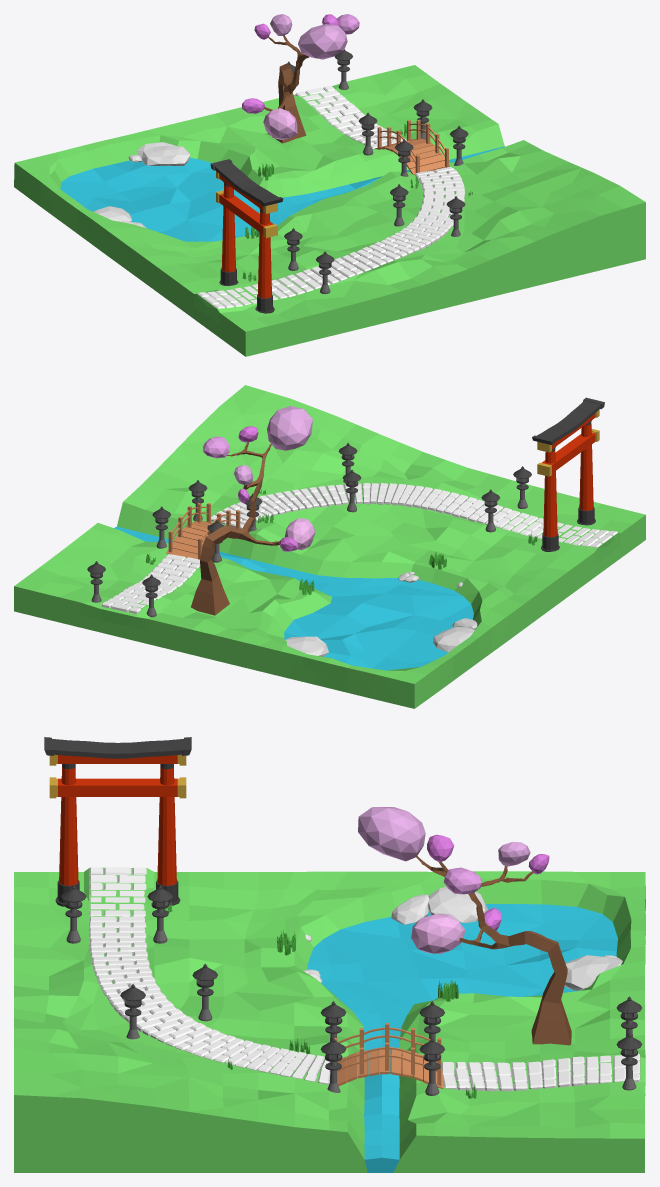
File: garden.fbx
The picture shows the model from 3 angles, top to bottom: view 1: azimuth 30°, elevation 25°; view 2: azimuth 150°, elevation 25°; view 3: azimuth 270°, elevation 25°; orthographic projection. The views are drawn at different scales.
Visible parts, largest first — view 1: Cube.004_Cube.002, Cube.006, Icosphere.006, Cube.022, Icosphere.008, Cube.019, Circle, Circle.001, Circle.004, Circle.003; view 2: Cube.004_Cube.002, Cube.006, Icosphere.006, Cube.022, Cube.019, Circle, Circle.006, Circle.001, Circle.004, Icosphere.010, Icosphere.008, Circle.003; view 3: Cube.004_Cube.002, Cube.006, Icosphere.006, Cube.022, Cube.019, Circle, Circle.001, Icosphere.010, Circle.004, Circle.006, Circle.003, Icosphere.008 (+1 smaller).
Part boxes in pixels (x1,y1,x2,y2): Cube.004_Cube.002: [14, 65, 645, 356]; Cube.006: [198, 85, 464, 308]; Icosphere.006: [242, 14, 359, 143]; Cube.022: [210, 159, 283, 313]; Icosphere.008: [136, 142, 190, 165]; Cube.019: [375, 138, 449, 174]; Circle: [284, 228, 334, 294]; Circle.001: [390, 184, 465, 236]; Circle.004: [359, 99, 432, 155]; Circle.003: [395, 126, 468, 176]; Cube.004_Cube.002: [14, 385, 645, 708]; Cube.006: [102, 483, 617, 613]; Icosphere.006: [191, 406, 315, 615]; Cube.022: [532, 397, 604, 551]; Cube.019: [166, 521, 211, 558]; Circle: [481, 466, 531, 532]; Circle.006: [87, 561, 160, 617]; Circle.001: [338, 443, 361, 512]; Circle.004: [152, 506, 224, 562]; Icosphere.010: [433, 626, 474, 652]; Icosphere.008: [285, 636, 328, 656]; Circle.003: [188, 480, 262, 531]; Cube.004_Cube.002: [14, 867, 645, 1172]; Cube.006: [89, 867, 640, 1091]; Icosphere.006: [358, 807, 571, 1045]; Cube.022: [44, 737, 191, 906]; Cube.019: [337, 1049, 443, 1088]; Circle: [61, 885, 172, 943]; Circle.001: [120, 963, 217, 1039]; Icosphere.010: [428, 886, 488, 922]; Circle.004: [419, 1001, 444, 1095]; Circle.006: [616, 996, 642, 1090]; Circle.003: [320, 1001, 346, 1092]; Icosphere.008: [564, 955, 622, 990].
Bounding box in the file's own units: 2205 × 951 × 2203.
